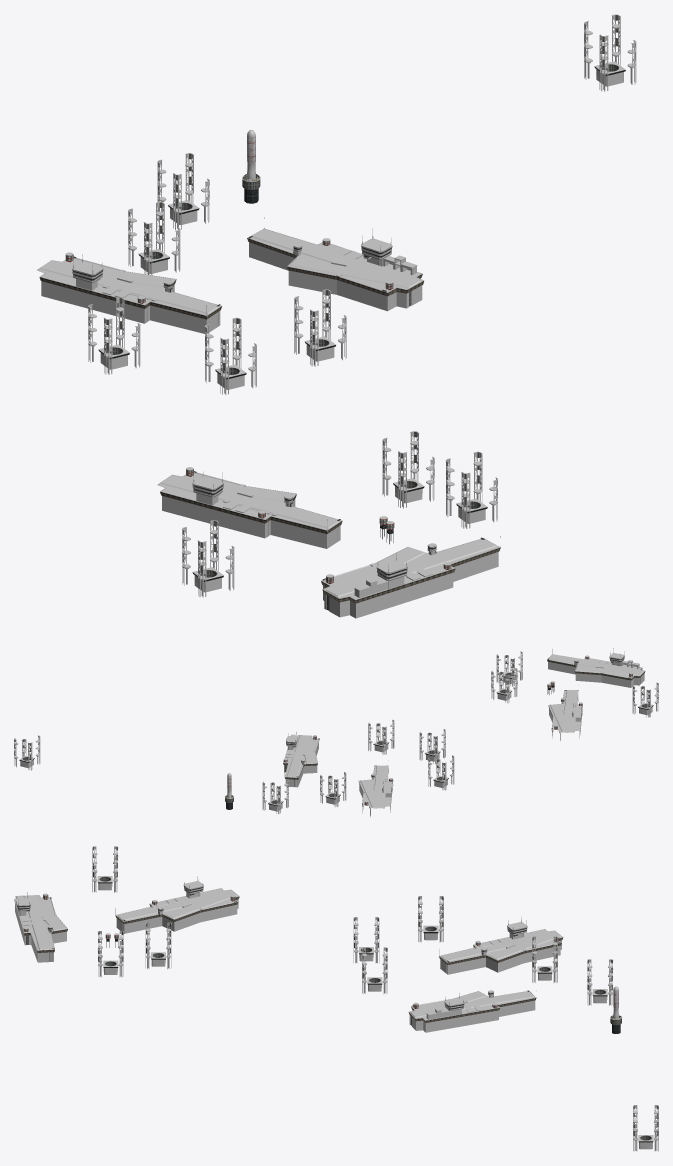
File: Extra.obj
The picture shows the model from 3 angles, top to bottom: view 1: azimuth 30°, elevation 25°; view 2: azimuth 150°, elevation 25°; view 3: azimuth 270°, elevation 25°; orthographic projection. The views are drawn at different scales.
Bounding box in the file's own units: 12202 × 963 × 12327.
